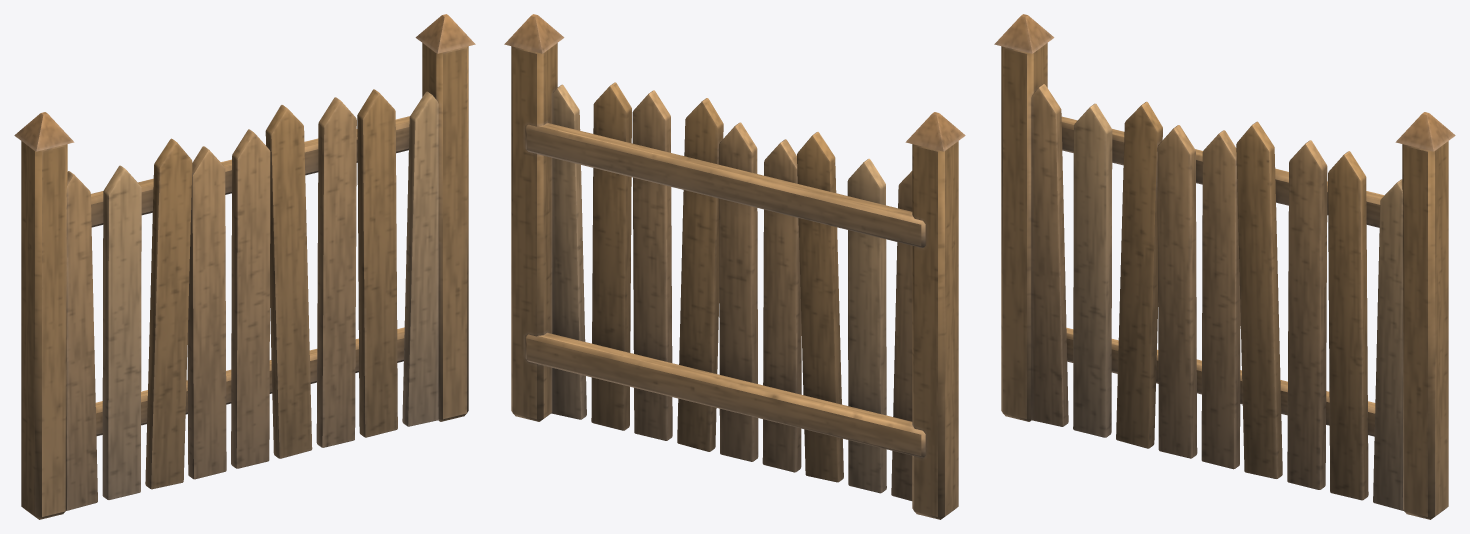
File: Stage_Pool_Fence.glb
3 renders of one model, left to right at view 1: azimuth 30°, elevation 25°; view 2: azimuth 150°, elevation 25°; view 3: azimuth 330°, elevation 25°, orthographic.
Visible parts, largest first — view 1: Stage_Pool_Fence; view 2: Stage_Pool_Fence; view 3: Stage_Pool_Fence.
Boxes of the visible parts, x1=… form: Stage_Pool_Fence: x1=14, y1=14, x2=475, y2=519; Stage_Pool_Fence: x1=504, y1=14, x2=965, y2=519; Stage_Pool_Fence: x1=994, y1=14, x2=1455, y2=519.
Size of the model in its own units: 8.11 by 7.03 by 0.7071.
1 material, 1 textured.
